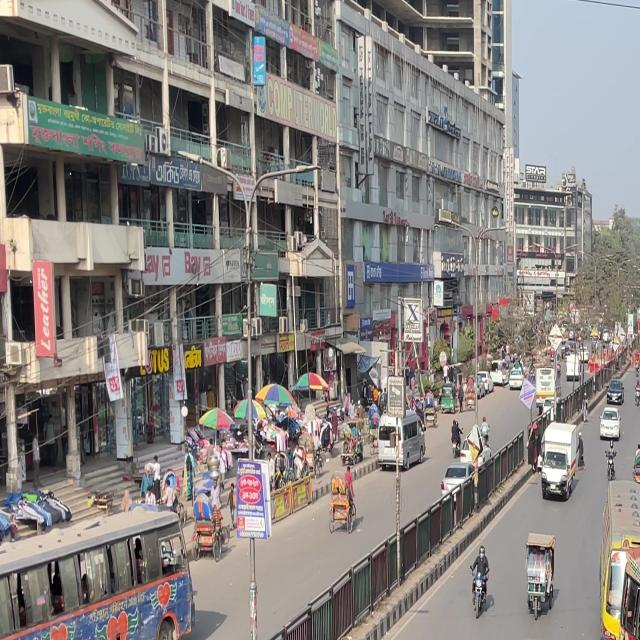bus: (0, 502, 206, 640), (595, 474, 640, 640), (614, 538, 640, 640)
car: (597, 405, 623, 442), (606, 379, 627, 409)
motorbike: (464, 540, 496, 625), (602, 439, 618, 487), (632, 378, 640, 414)
van: (534, 423, 584, 506)
